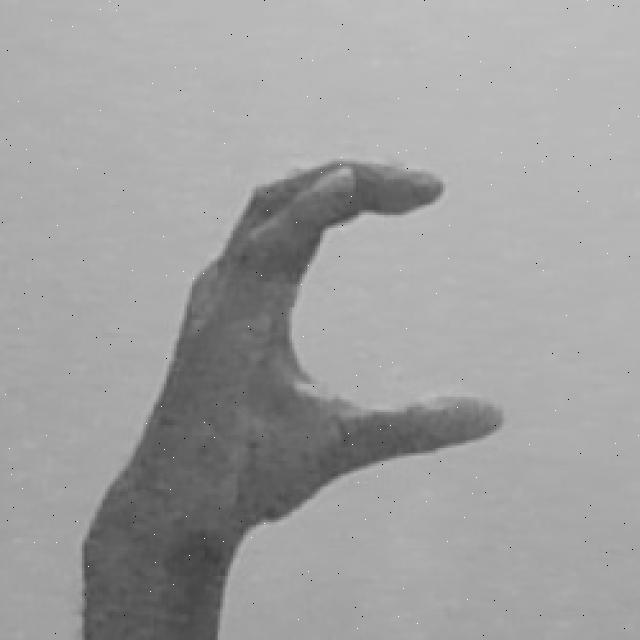C: (77, 156, 508, 640)
